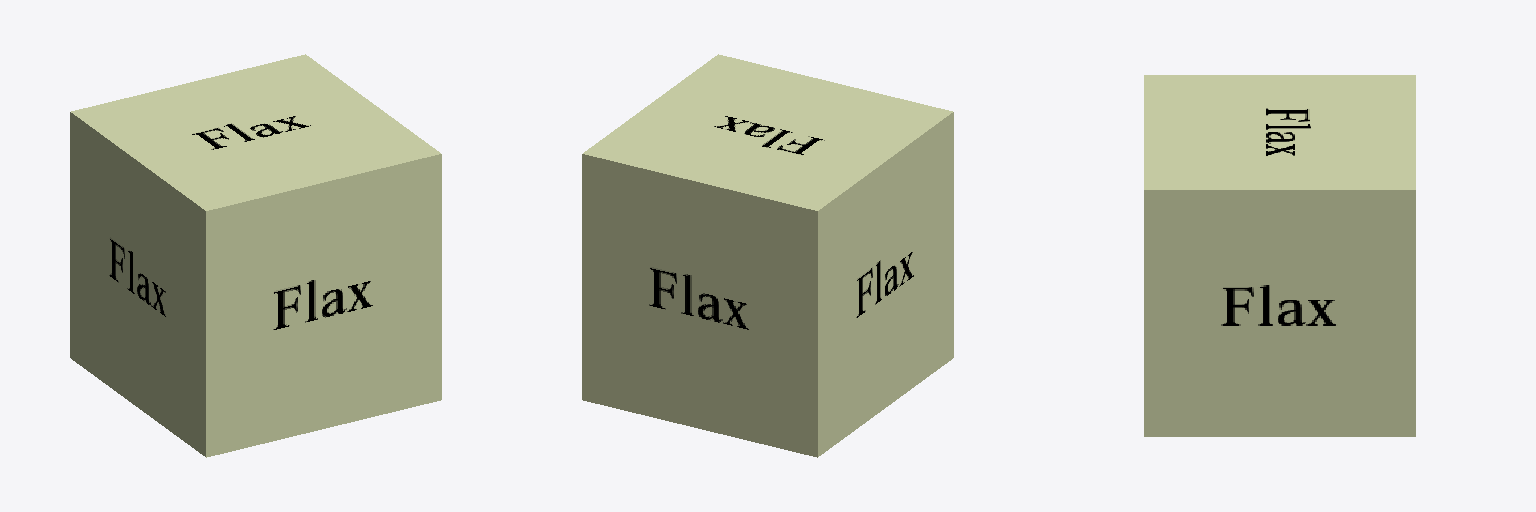
3 views of the same model, side by side, from view 1: azimuth 30°, elevation 25°; view 2: azimuth 150°, elevation 25°; view 3: azimuth 270°, elevation 25° (orthographic).
Visible parts, largest first — view 1: Cube; view 2: Cube; view 3: Cube.
Part boxes in pixels (x1,y1,x2,y2): Cube: (70, 54, 441, 457); Cube: (582, 54, 953, 457); Cube: (1144, 75, 1415, 436).
Size of the model in its own units: 0.6 by 0.6 by 0.6.
Materials: 1 (1 with a texture image).